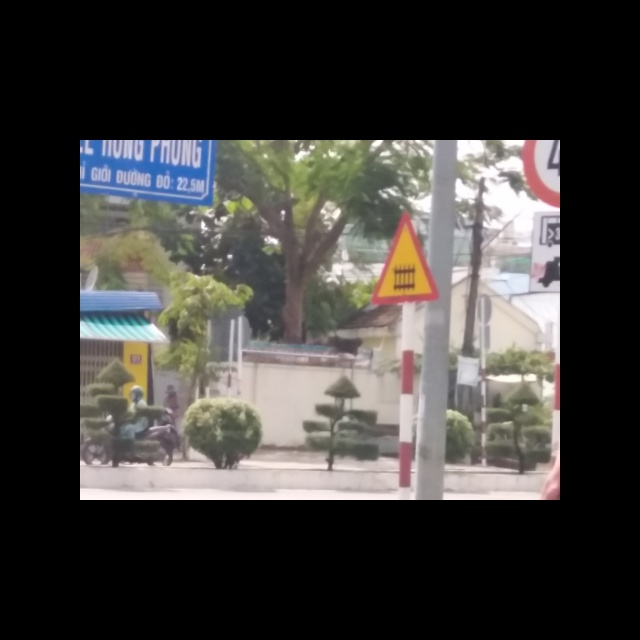Giao nhau với đường sắt có rào chắn: (367, 212, 438, 305)
